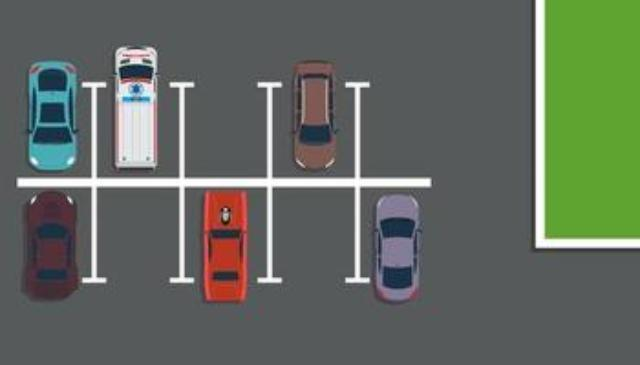Empty: (185, 82, 269, 177), (360, 82, 438, 177), (275, 189, 355, 280), (96, 190, 180, 276)
Filled: (186, 188, 266, 320), (99, 58, 179, 176), (274, 62, 356, 177), (11, 61, 91, 176), (362, 190, 432, 310), (16, 189, 90, 302)
